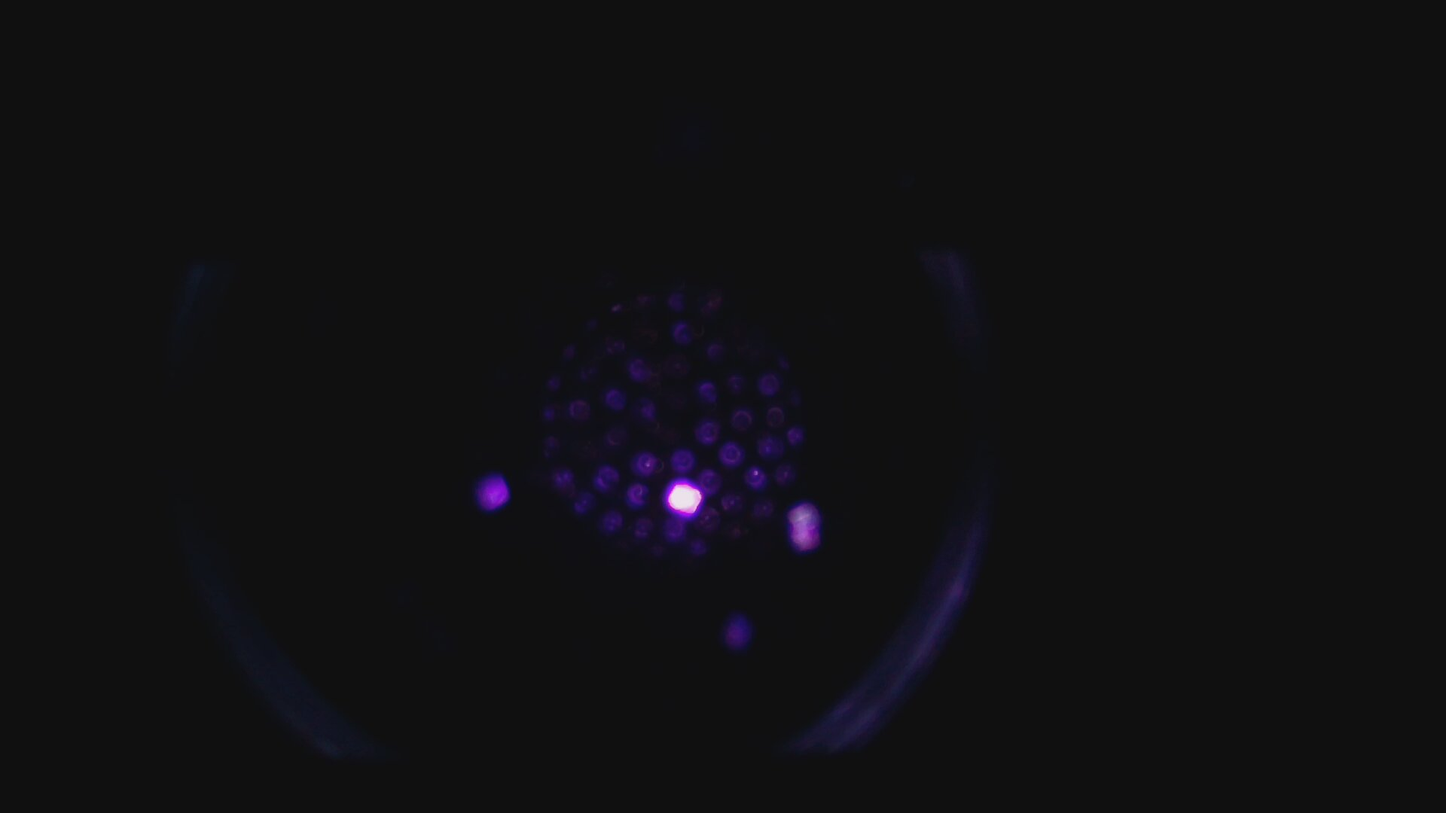plastic: (781, 500, 831, 556), (472, 471, 515, 514), (664, 478, 706, 519)
